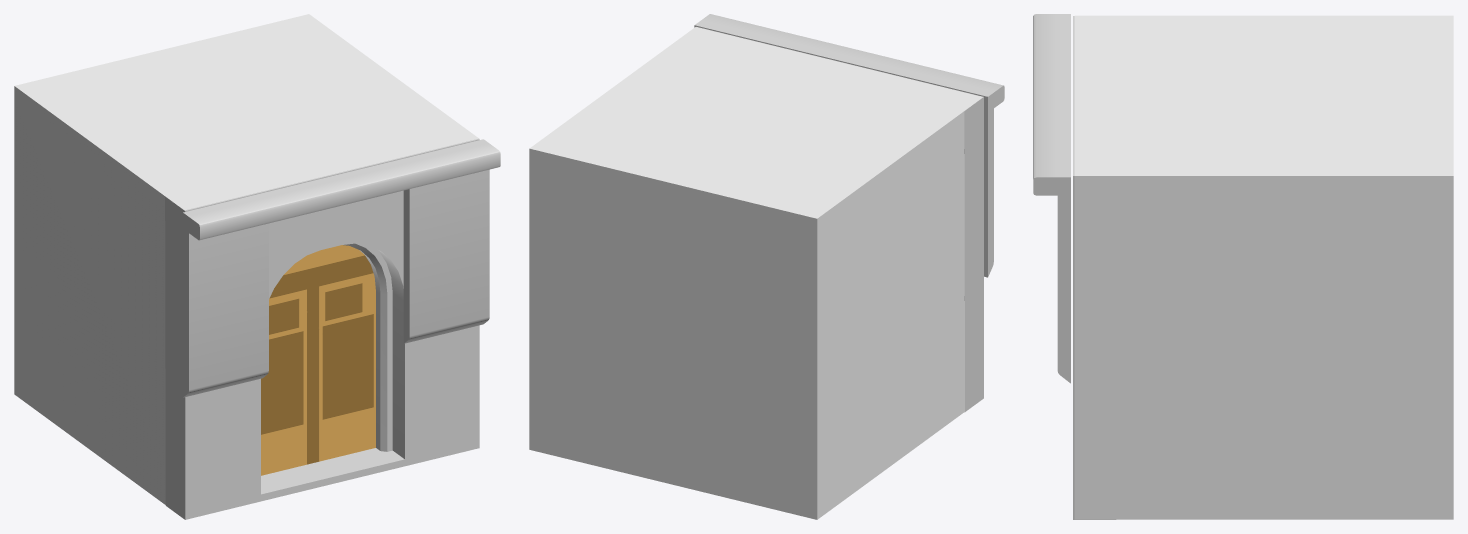
File: Entrance2.fbx
3 renders of one model, left to right at view 1: azimuth 30°, elevation 25°; view 2: azimuth 150°, elevation 25°; view 3: azimuth 270°, elevation 25°, orthographic. The views are drawn at different scales.
Parts seen in each view (by area): view 1: CUBE2, Door2, Facade, DoorFrame2; view 2: CUBE2, Facade, Door2; view 3: CUBE2, Facade, Door2.
Part boxes in pixels (box(x1,y1,x2,y2)): CUBE2: box(14, 14, 479, 504); Door2: box(165, 139, 479, 519); Facade: box(183, 139, 500, 397); DoorFrame2: box(343, 243, 392, 451); CUBE2: box(529, 27, 983, 519); Facade: box(694, 14, 1004, 277); Door2: box(696, 27, 983, 411); CUBE2: box(1074, 15, 1453, 519); Facade: box(1033, 14, 1070, 383); Door2: box(1073, 16, 1115, 519).
Bounding box in the file's own units: 30.6 × 30.05 × 33.27.
